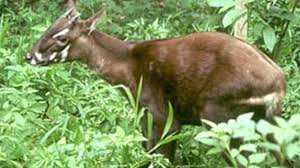sao_la: (26, 5, 288, 127)
